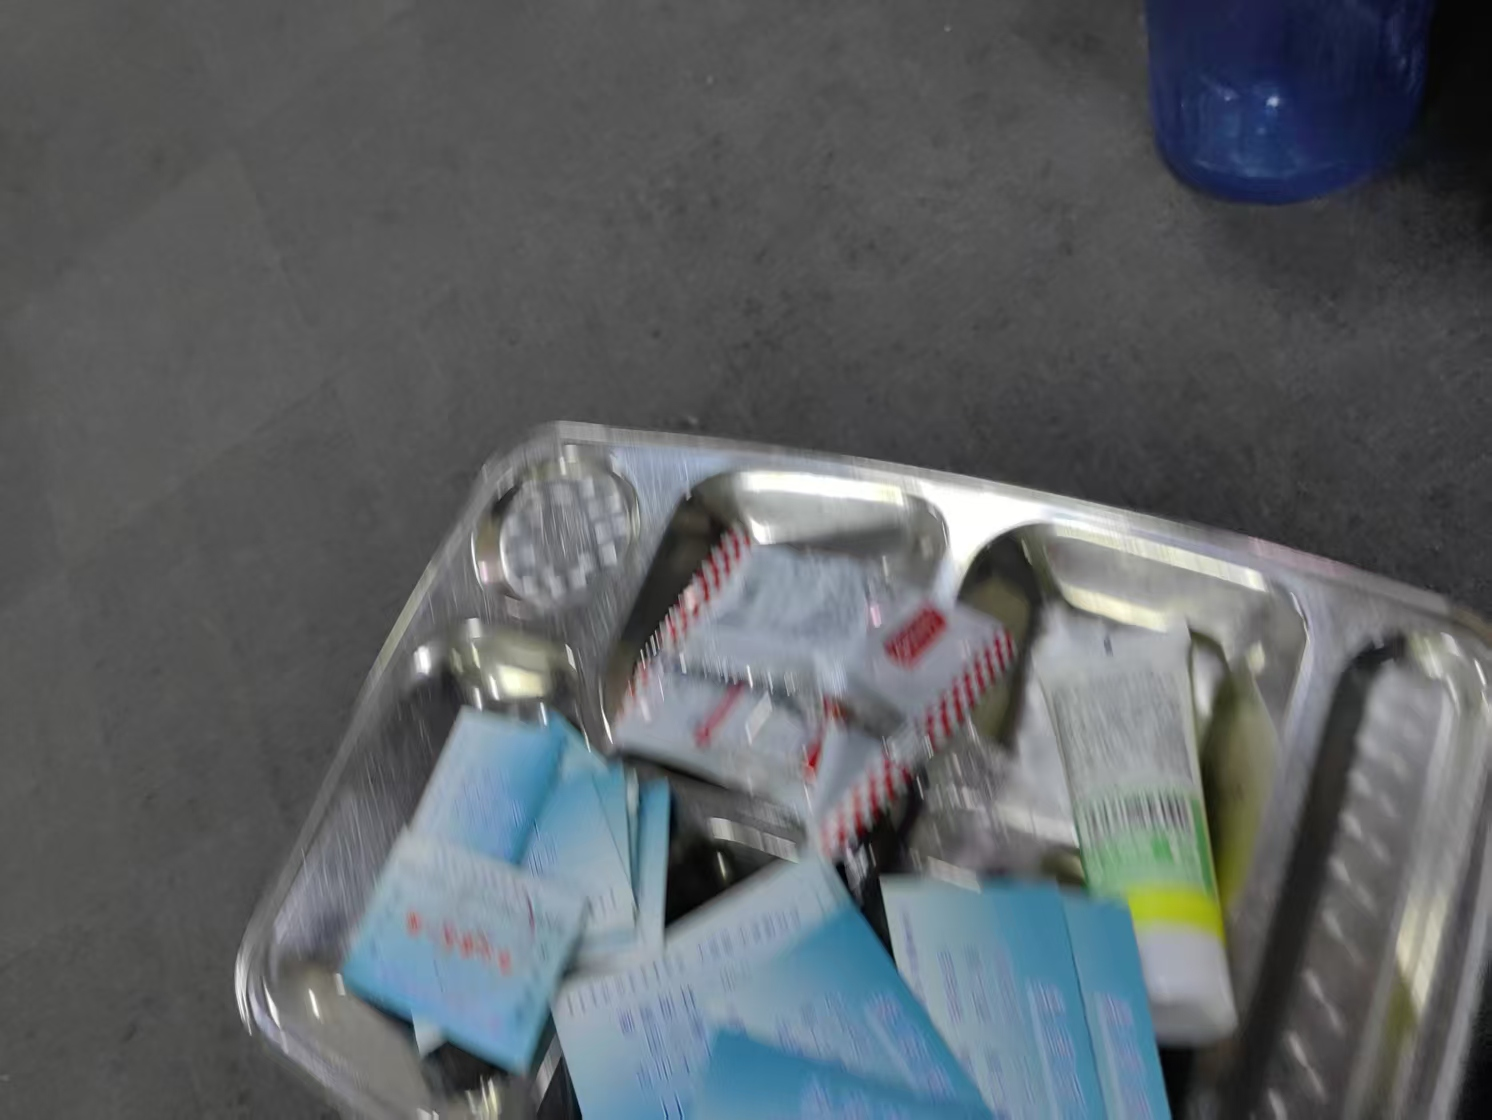plate: (235, 422, 1492, 1120)
severe: (335, 522, 1243, 1120)
